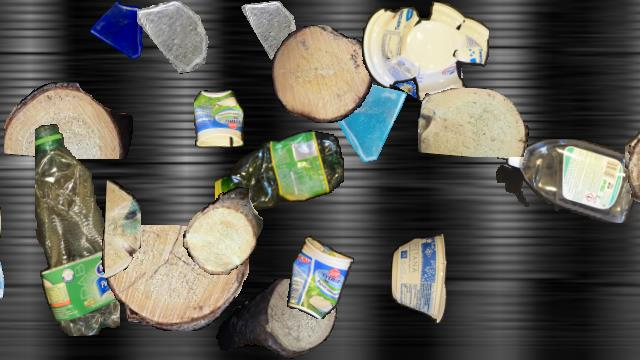glass: (372, 30, 466, 124), (326, 75, 416, 165), (137, 1, 209, 73), (89, 1, 153, 65), (241, 1, 299, 59), (0, 247, 4, 305)
plastic: (35, 123, 119, 335), (362, 1, 488, 101), (496, 139, 640, 223), (215, 126, 343, 218), (285, 236, 355, 318), (391, 234, 447, 322), (194, 90, 244, 148), (625, 57, 640, 191)
wood: (101, 225, 249, 331), (272, 25, 372, 123), (215, 279, 337, 359), (4, 82, 132, 158), (418, 88, 528, 156), (183, 187, 263, 275), (105, 180, 141, 278), (628, 119, 640, 225), (0, 197, 1, 257)
